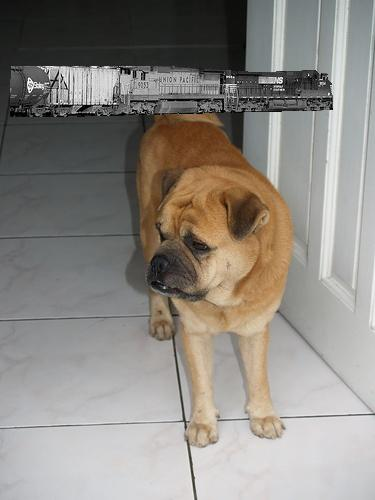tampered: (11, 67, 333, 117)
